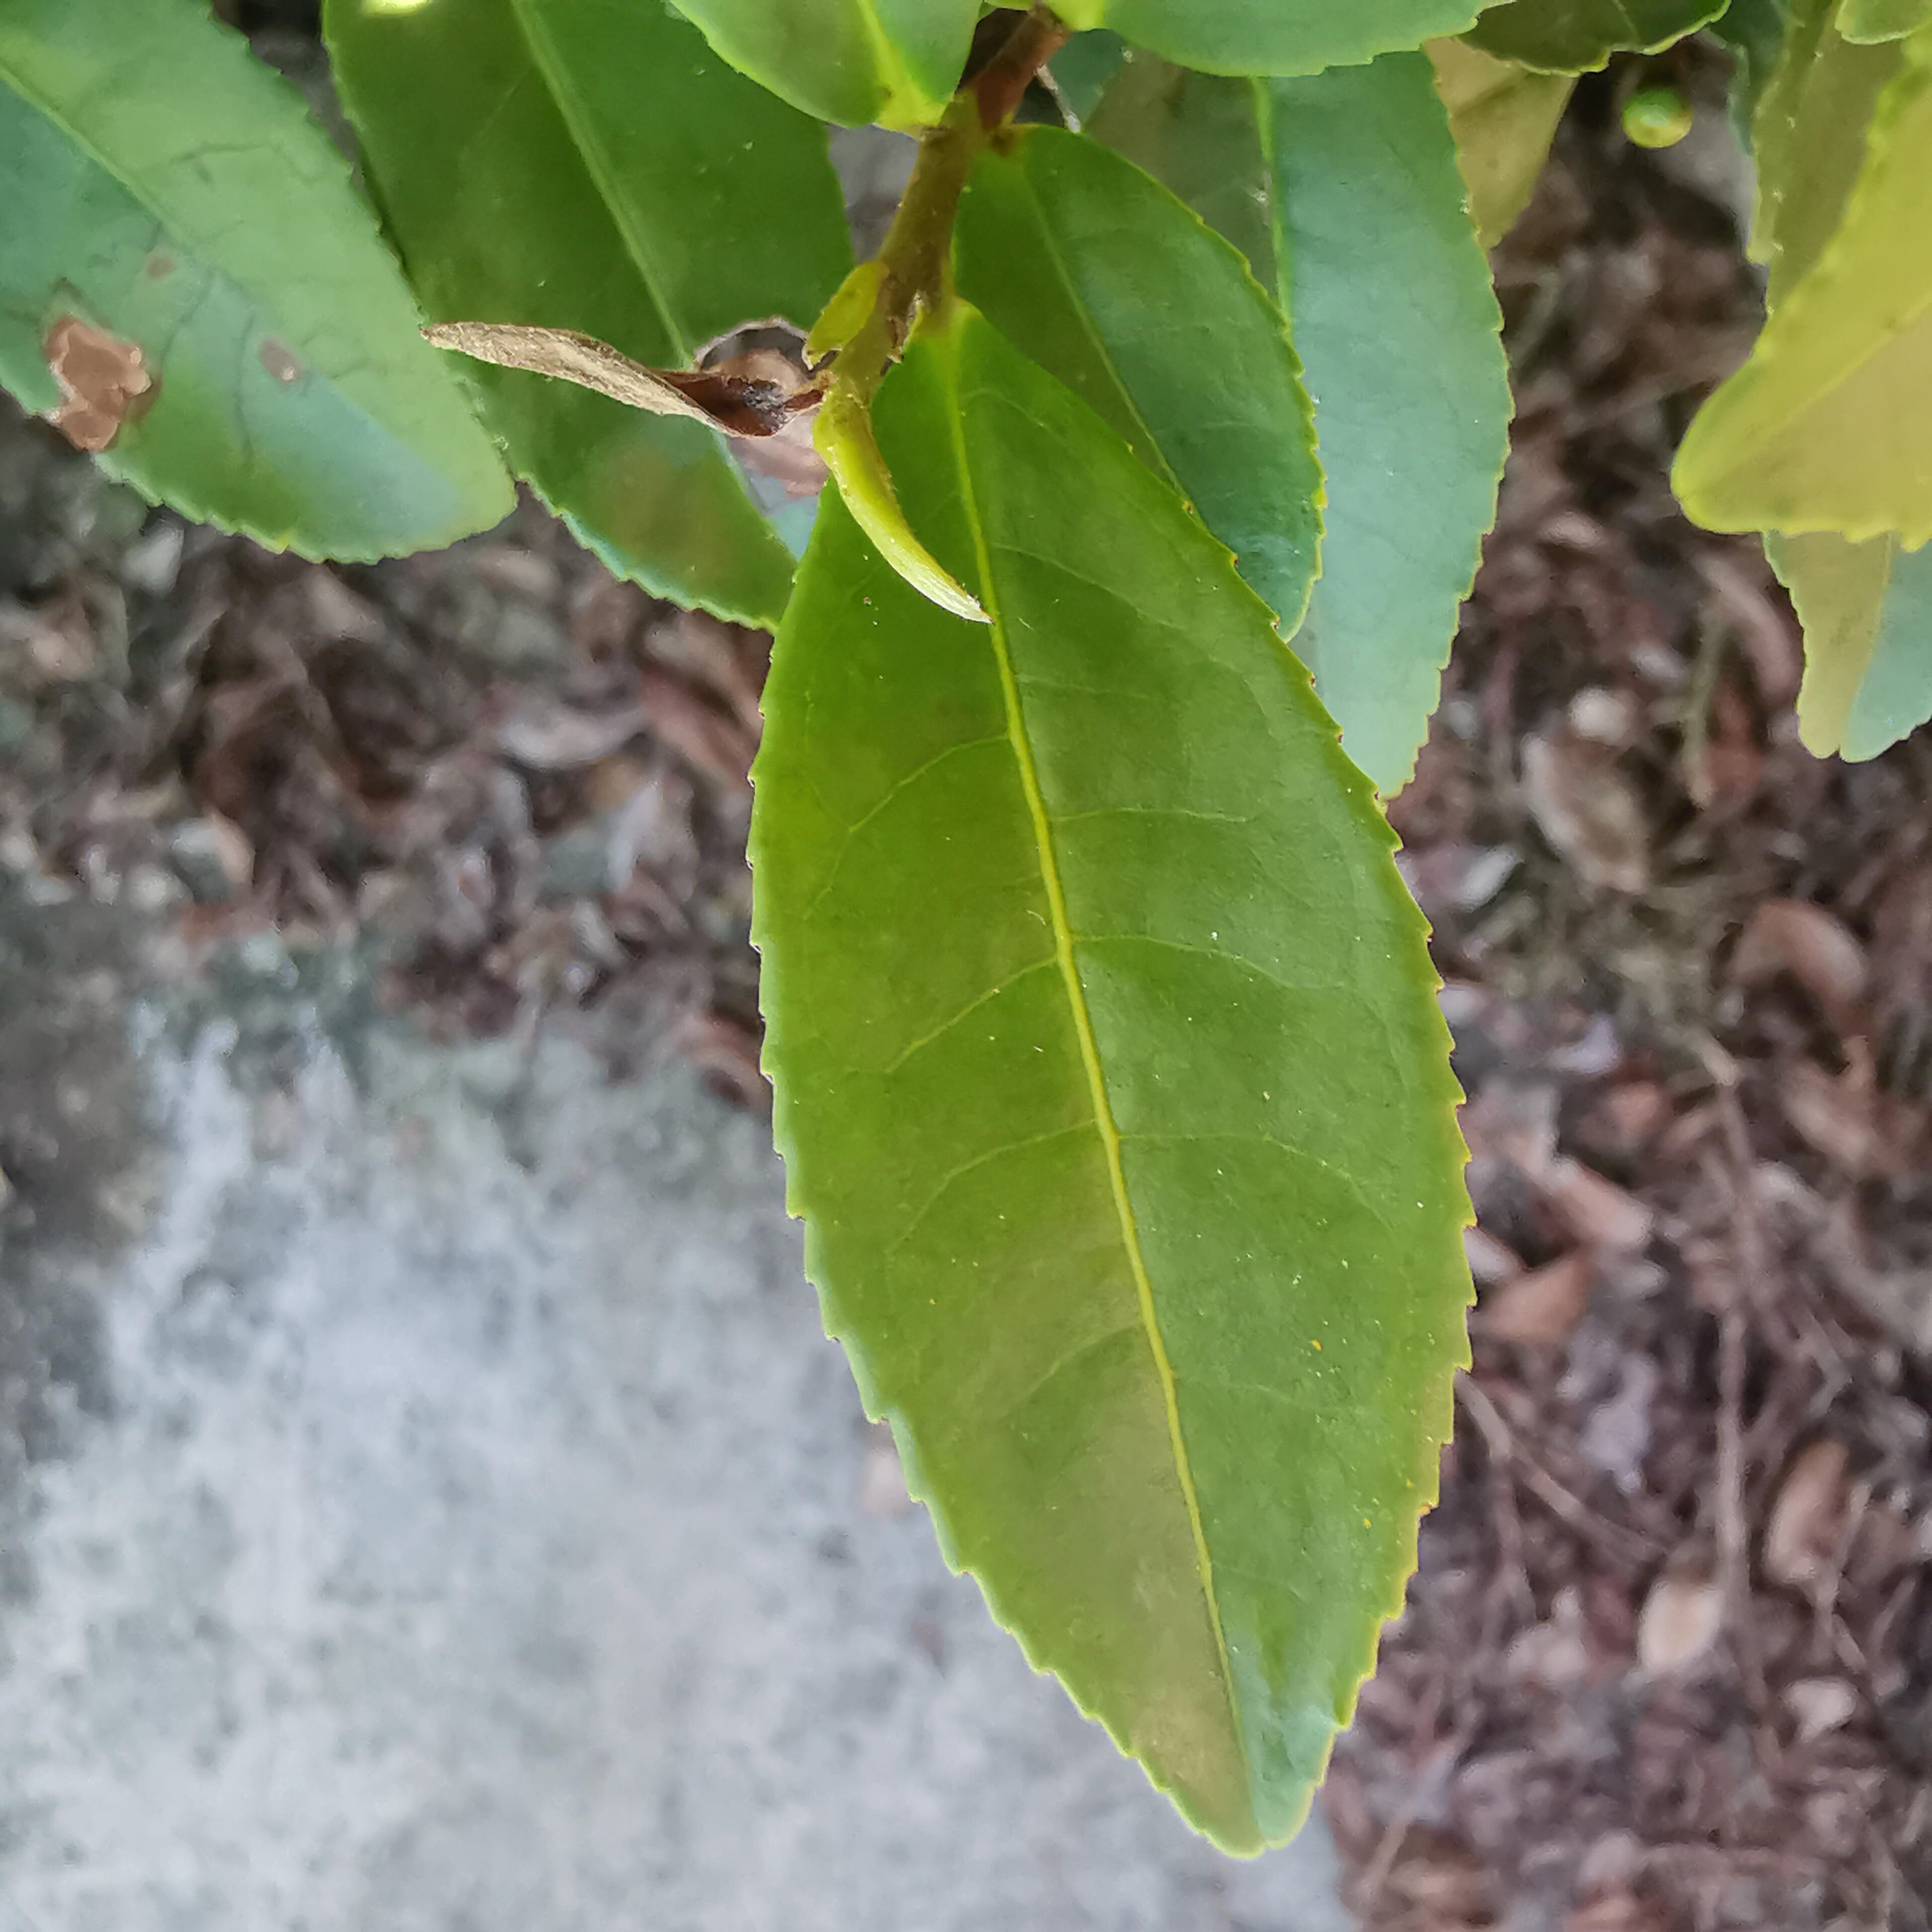healthy: (745, 303, 1484, 1854)
tanju_high: (5, 2, 522, 575)
